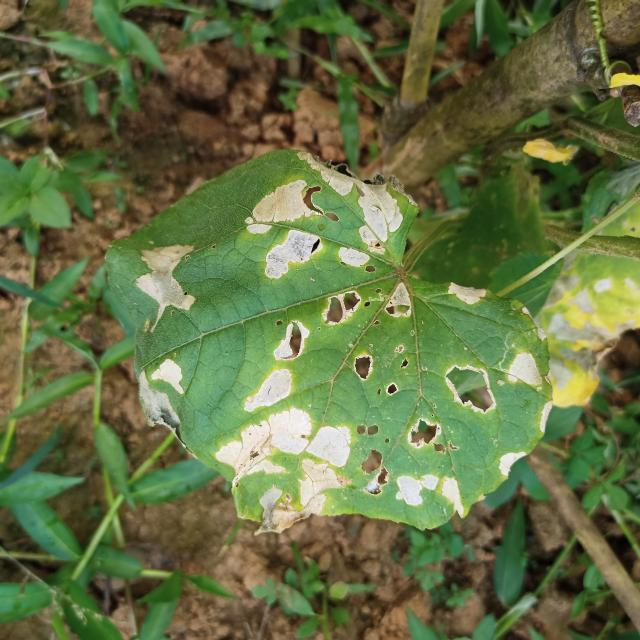disease_cucumber: (120, 149, 523, 530)
